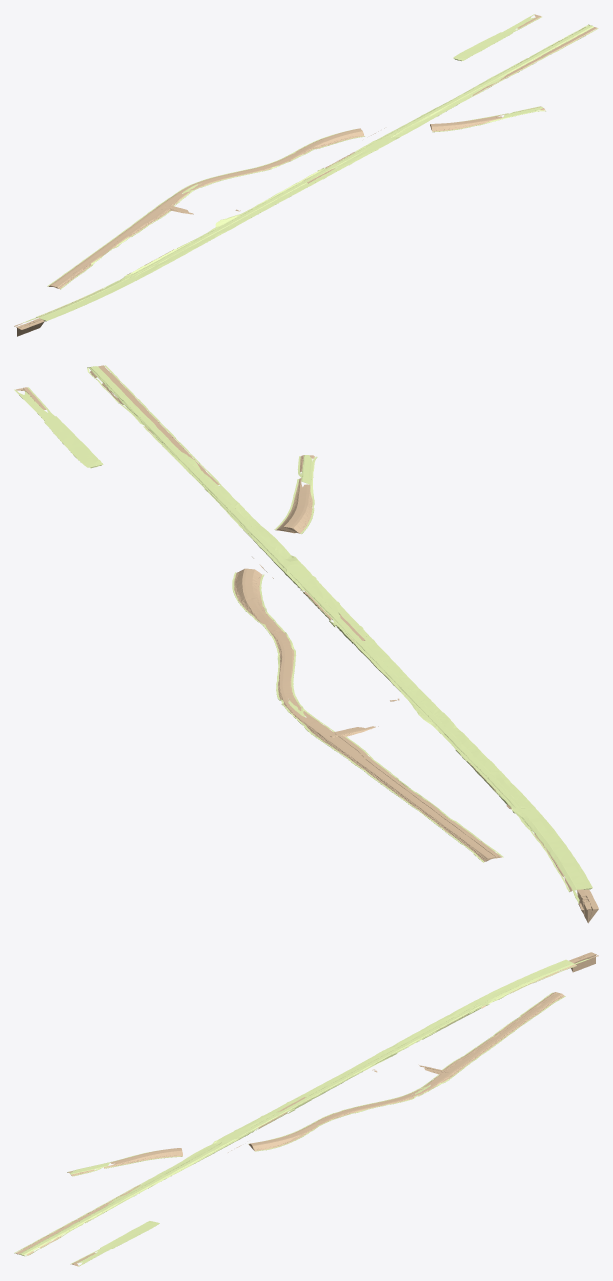
3 views of the same model, one above another, from view 1: azimuth 90°, elevation 25°; view 2: azimuth 150°, elevation 25°; view 3: azimuth 270°, elevation 25° (orthographic). The views are drawn at different scales.
Bounding box in the file's own units: 1423 × 27.74 × 1116.
